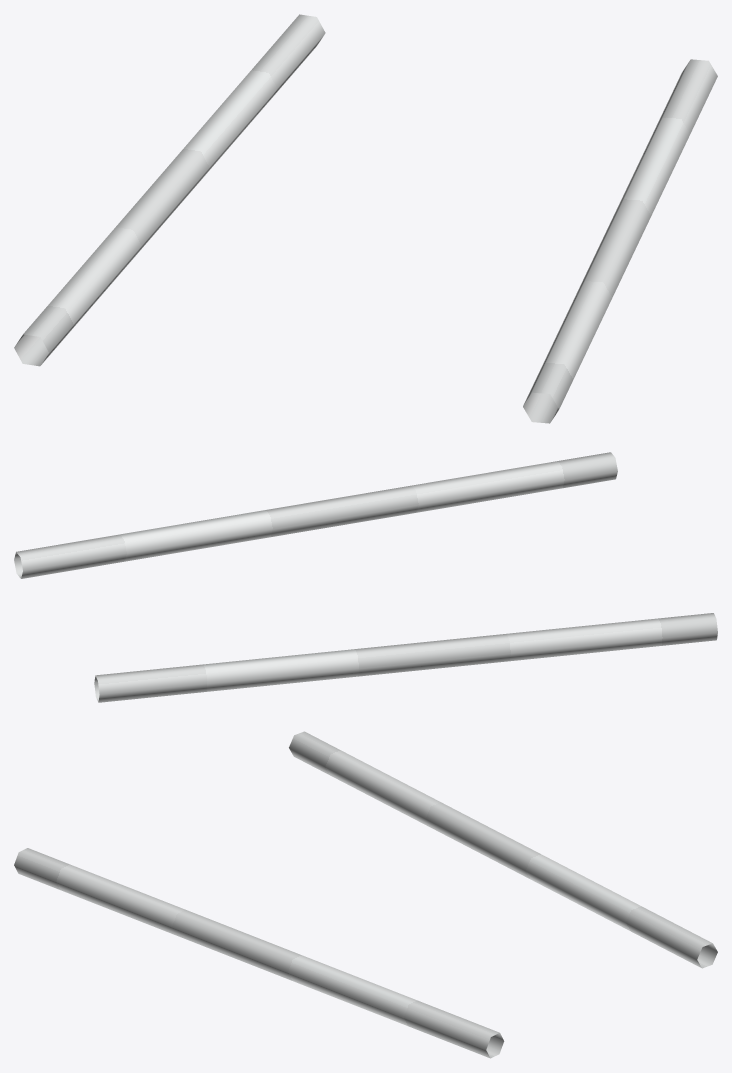
The model's file is nycsignalarm_diagonal6_c6.obj.
3 views of the same model, one above another, from view 1: azimuth 30°, elevation 25°; view 2: azimuth 150°, elevation 25°; view 3: azimuth 270°, elevation 25° (orthographic). The views are drawn at different scales.
Visible parts, largest first — view 1: nycsignalarm_diagonal6_c6; view 2: nycsignalarm_diagonal6_c6; view 3: nycsignalarm_diagonal6_c6.
Part boxes in pixels (left/top/right/bottom): nycsignalarm_diagonal6_c6: left=14, top=14, right=717, bottom=423; nycsignalarm_diagonal6_c6: left=14, top=452, right=717, bottom=702; nycsignalarm_diagonal6_c6: left=14, top=731, right=717, bottom=1058.
Size of the model in its own units: 1.6 by 0.0849 by 1.6.
